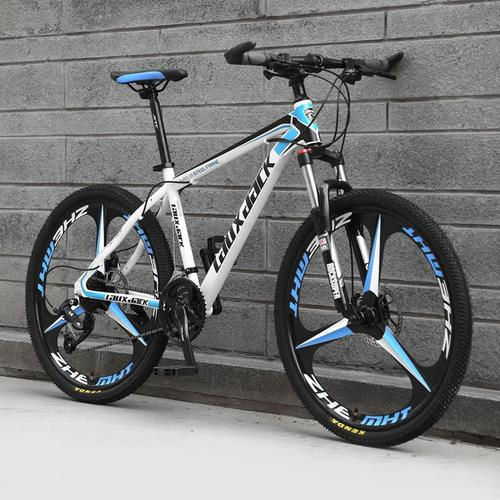单车: (21, 12, 490, 459)
